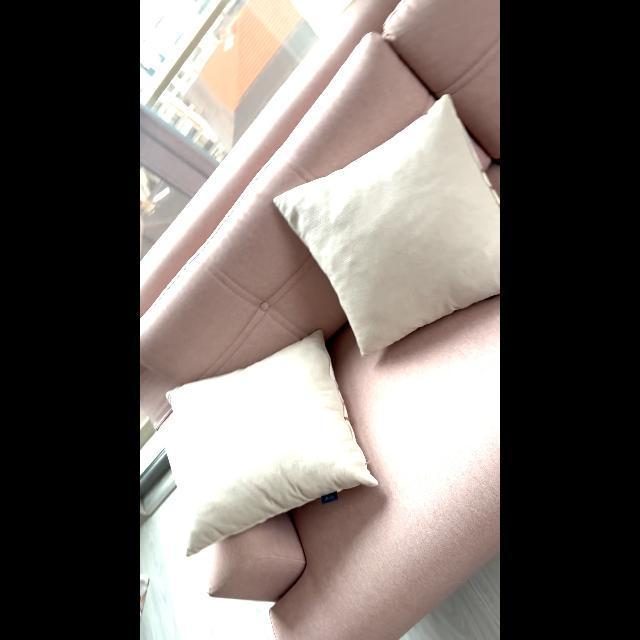throw pillow: (274, 90, 500, 352), (156, 322, 384, 554)
